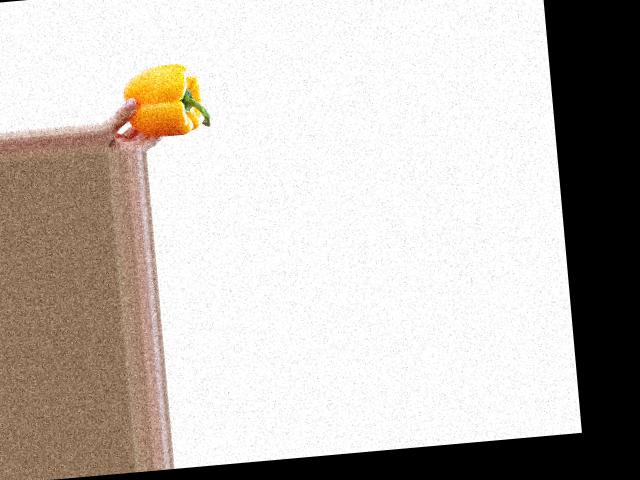bell_pepper: (119, 59, 215, 139)
